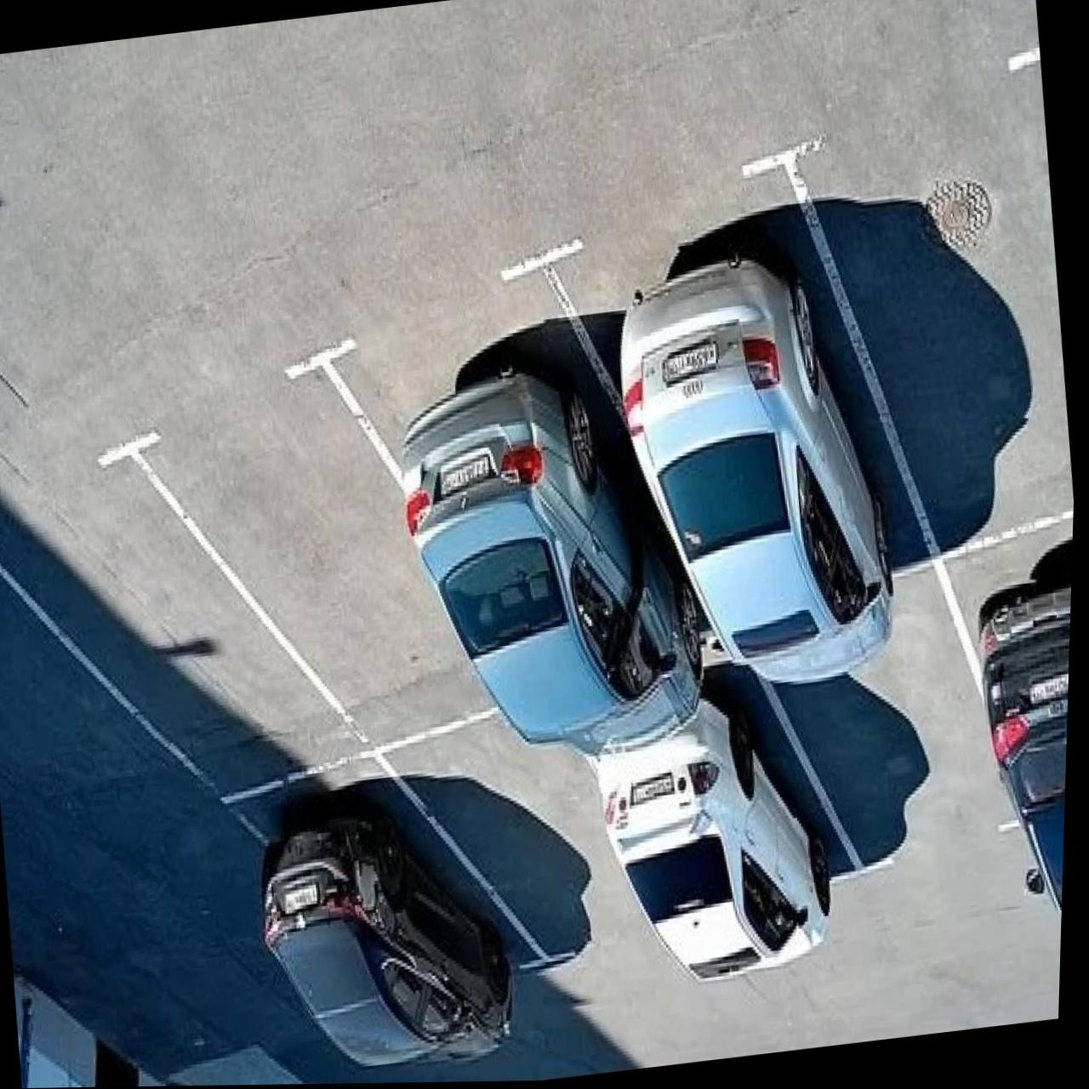cars: (386, 276, 722, 752), (602, 176, 912, 645), (262, 731, 516, 1085), (602, 654, 824, 967), (961, 539, 1073, 905)
empty: (41, 363, 317, 854), (826, 70, 1086, 578), (194, 343, 504, 766), (754, 580, 1016, 907), (441, 687, 657, 999)
